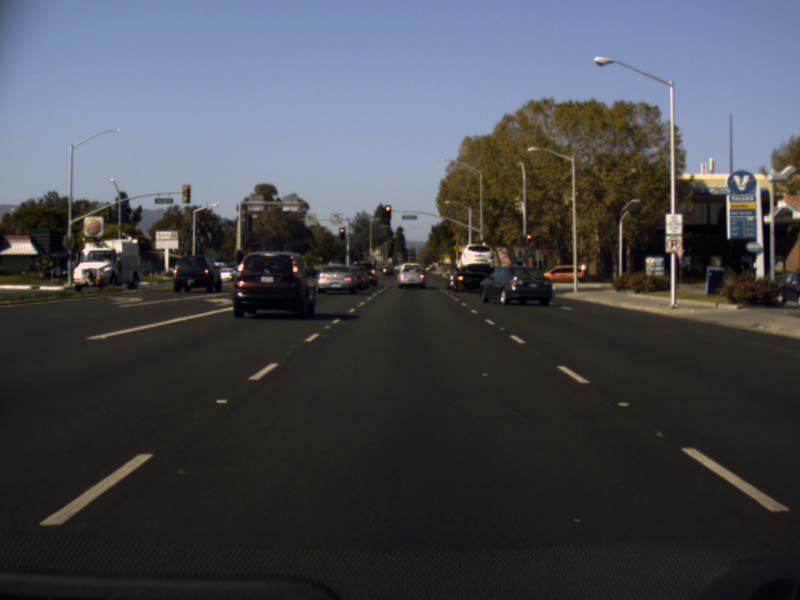Red: (384, 205, 391, 219), (338, 228, 344, 239)
